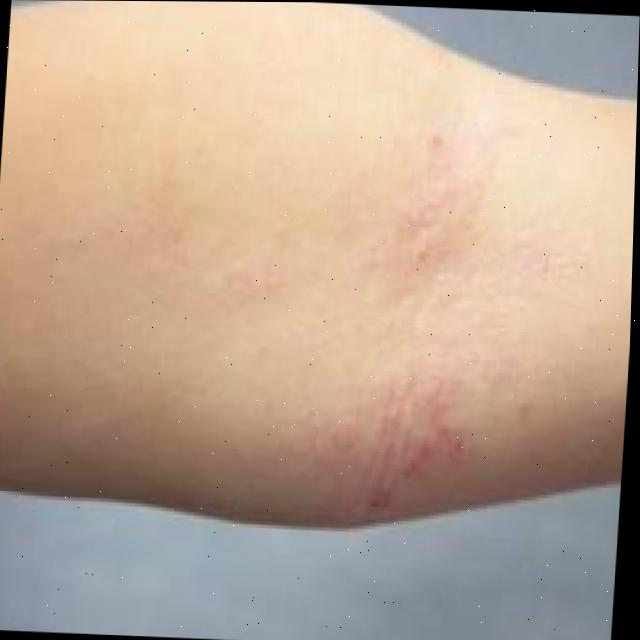Eczema: (367, 130, 475, 256), (351, 394, 458, 490)
